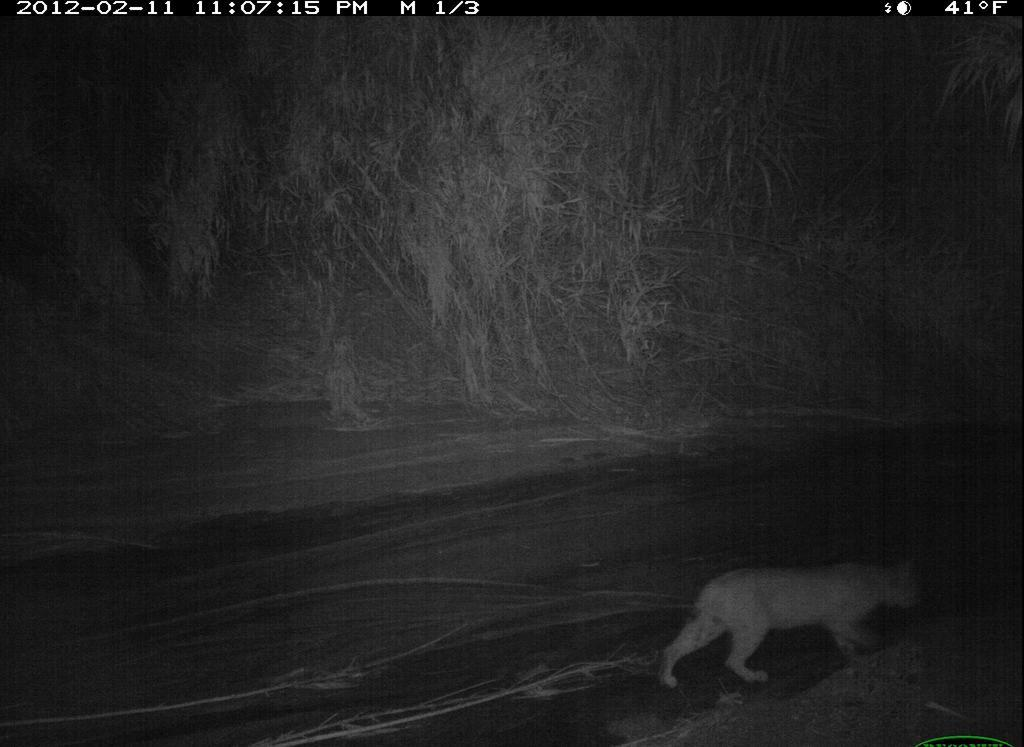bobcat: (652, 545, 929, 693)
